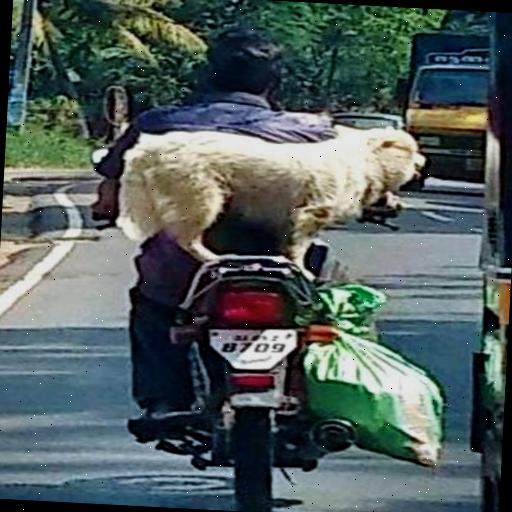no helmet: (120, 14, 403, 512)
